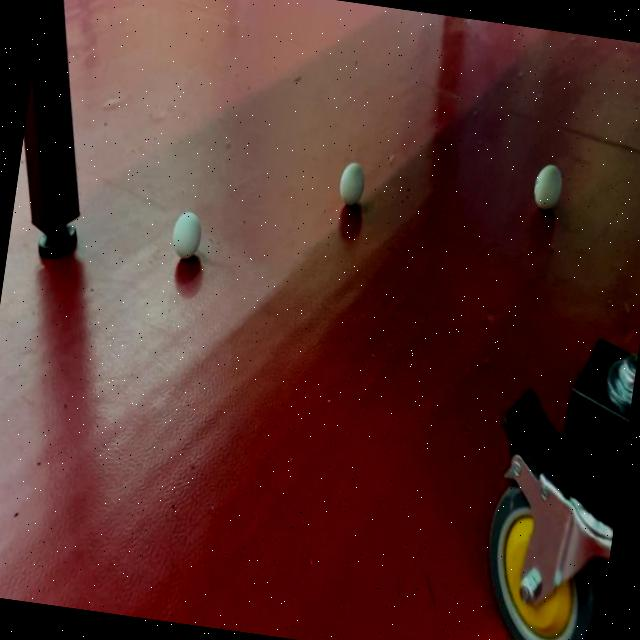ping-pong-ball: (167, 206, 206, 263), (529, 158, 566, 214), (335, 156, 368, 210)
